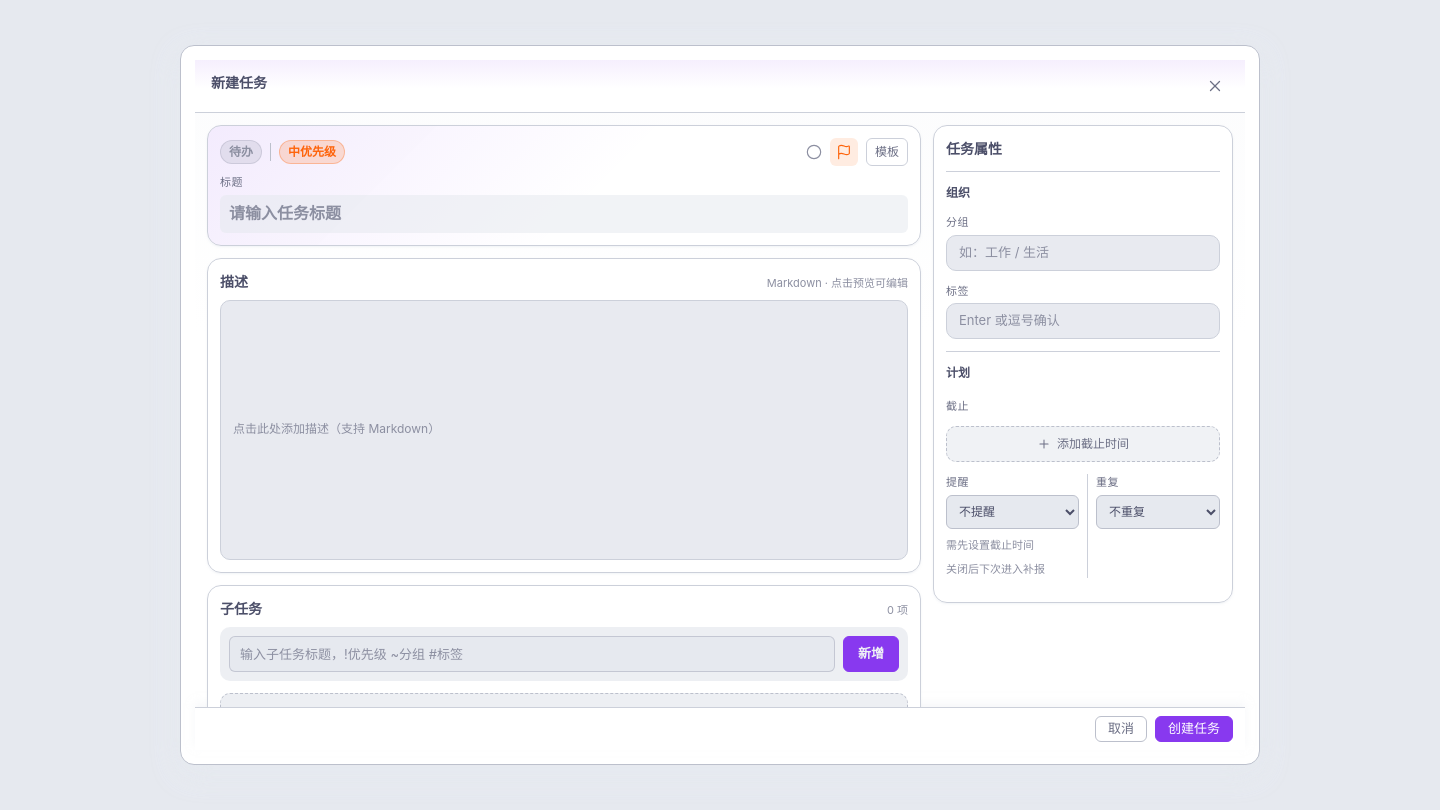
TaskEditor compact layout › closes the template popover when the editor closes
Click the button with test id "template-menu-trigger": (887, 152) [866,138,908,166]
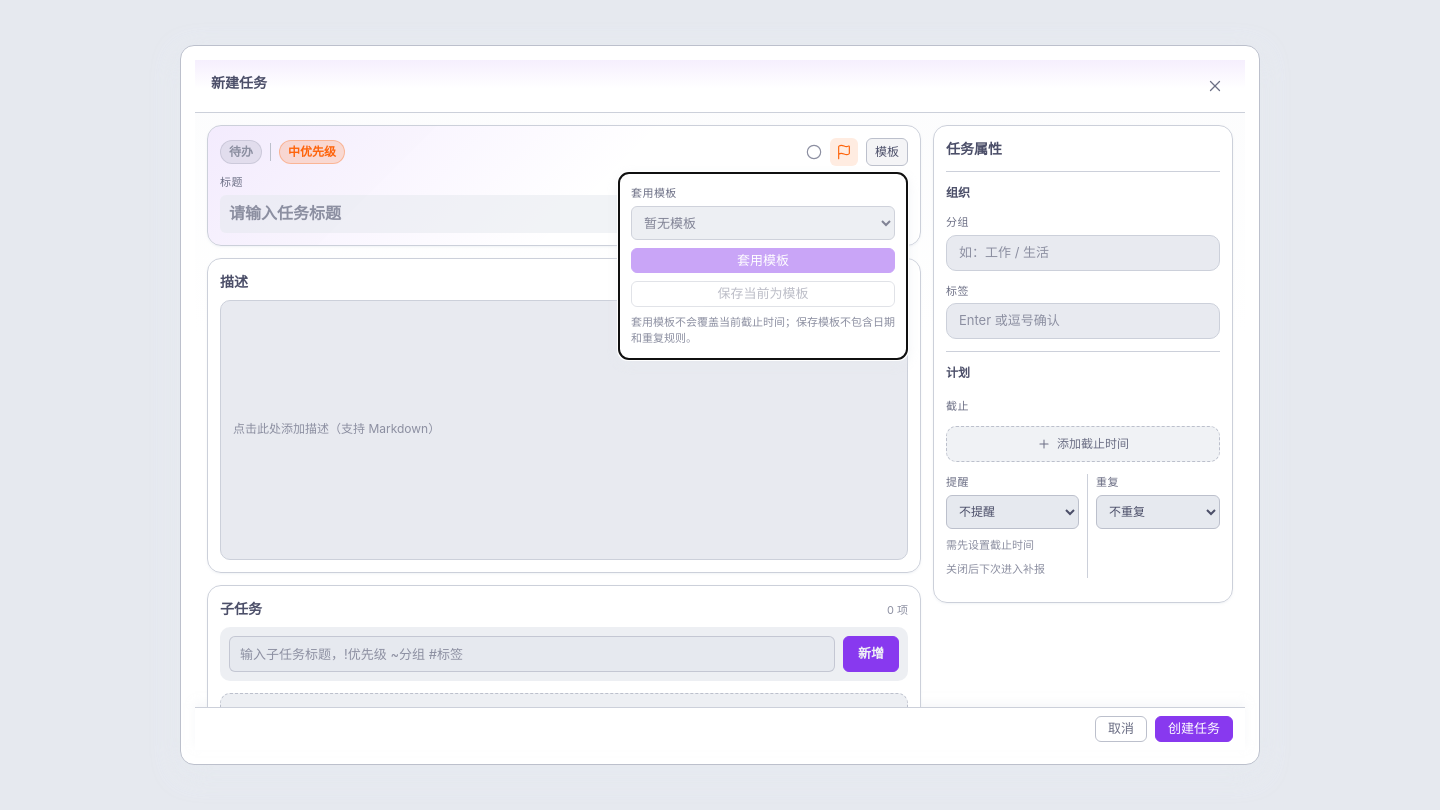
Click the button named "关闭": (1215, 86) [1201,72,1229,100]
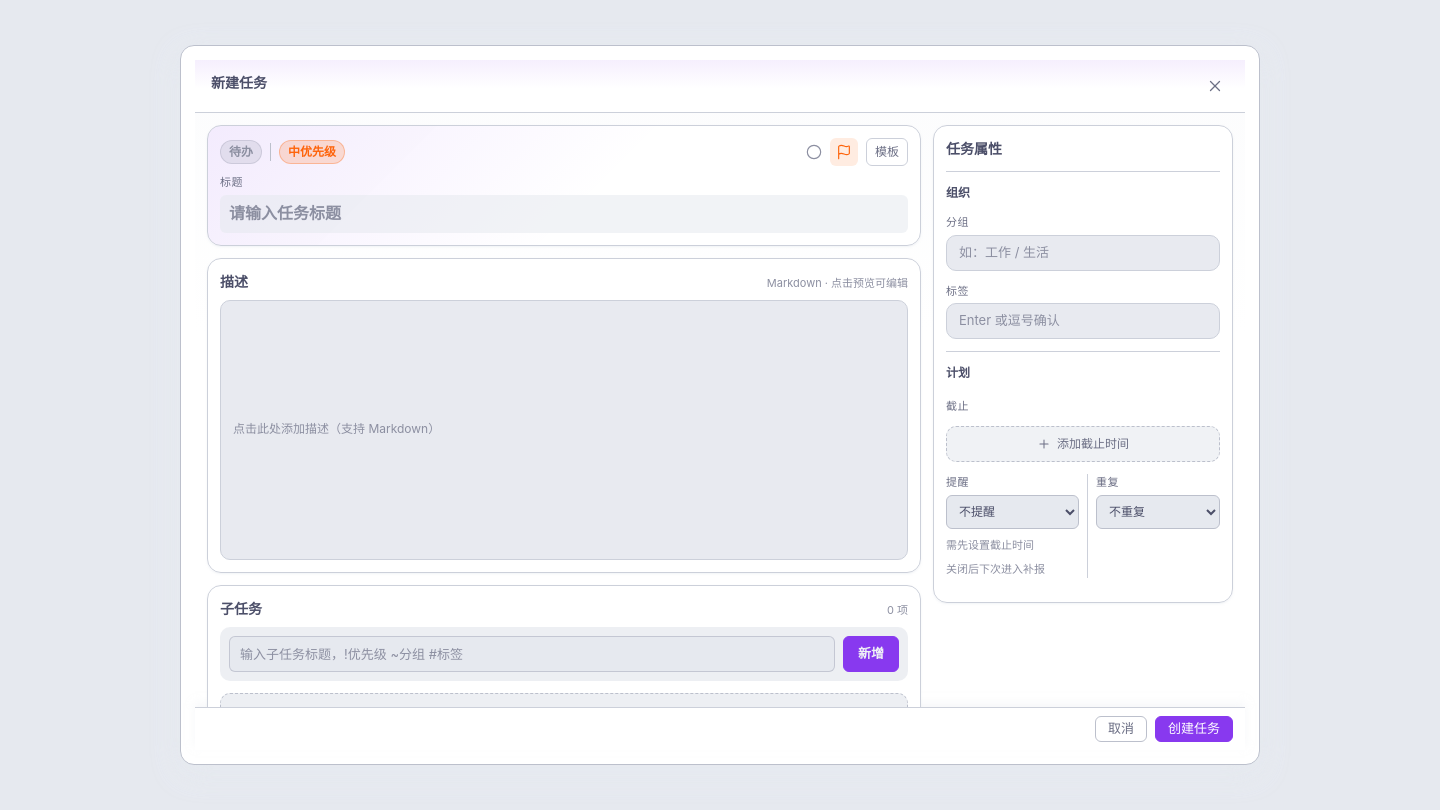
Expected: the dialog with test id "template-menu" is gone
